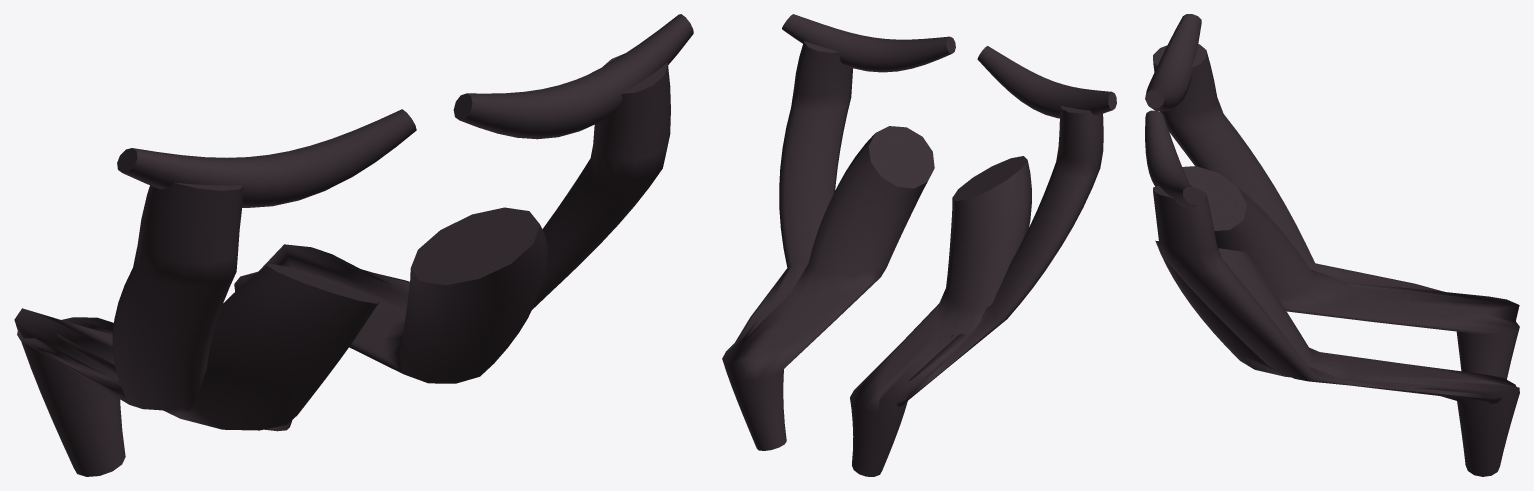
File: facial_extended_goatee_default.gltf
3 views of the same model, side by side, from view 1: azimuth 30°, elevation 25°; view 2: azimuth 150°, elevation 25°; view 3: azimuth 270°, elevation 25° (orthographic). The views are drawn at different scales.
Parts seen in each view (by area): view 1: Extended Goatee; view 2: Extended Goatee; view 3: Extended Goatee.
Boxes of the visible parts, box(x1,y1,x2,y2) form: Extended Goatee: box(14, 14, 693, 476); Extended Goatee: box(722, 14, 1116, 476); Extended Goatee: box(1145, 14, 1519, 476).
Size of the model in its own units: 0.1872 by 0.1675 by 0.1656.
Materials: 1 (1 with a texture image).
